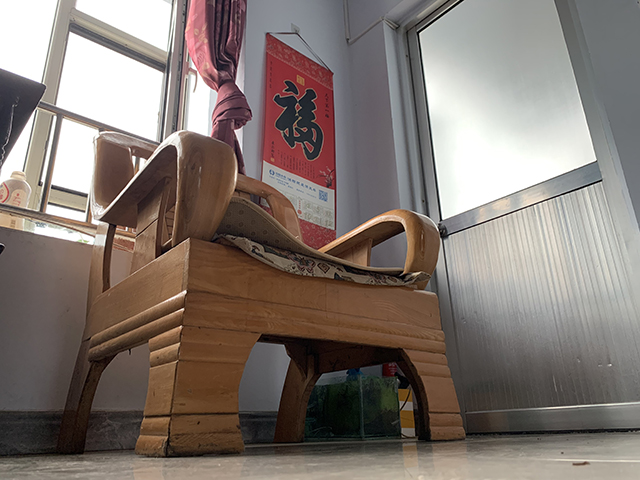sofa: (54, 128, 469, 459)
